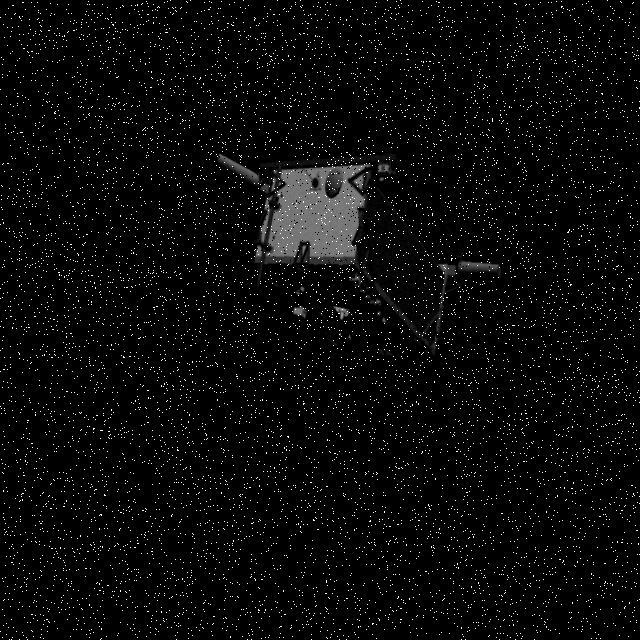medium_debris: (198, 126, 512, 350)
